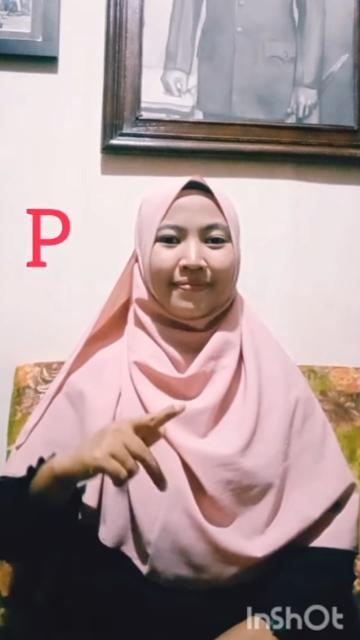P: (53, 400, 185, 494)
